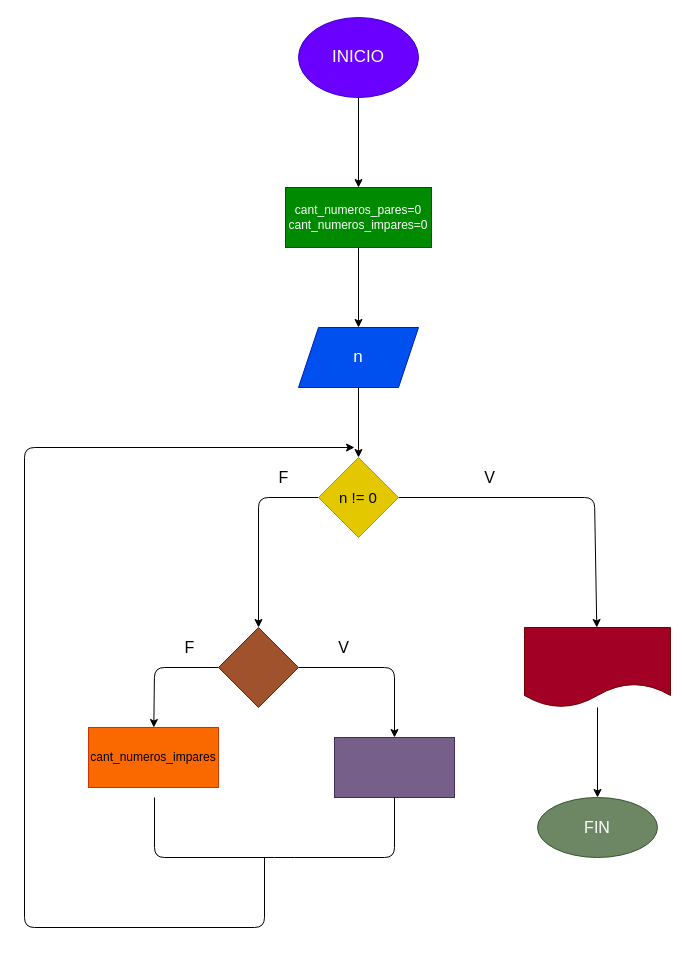
Image size: 688x953. Some labels were removed from this diagram. Here are the shapes that lost their labels. From the top down, the box of each, then its label:
(218, 626, 298, 708): n / 2 = 0
(524, 626, 670, 708): cant_numeros_pares cant_numeros_impares
(334, 736, 454, 798): cant_numeros_pares
